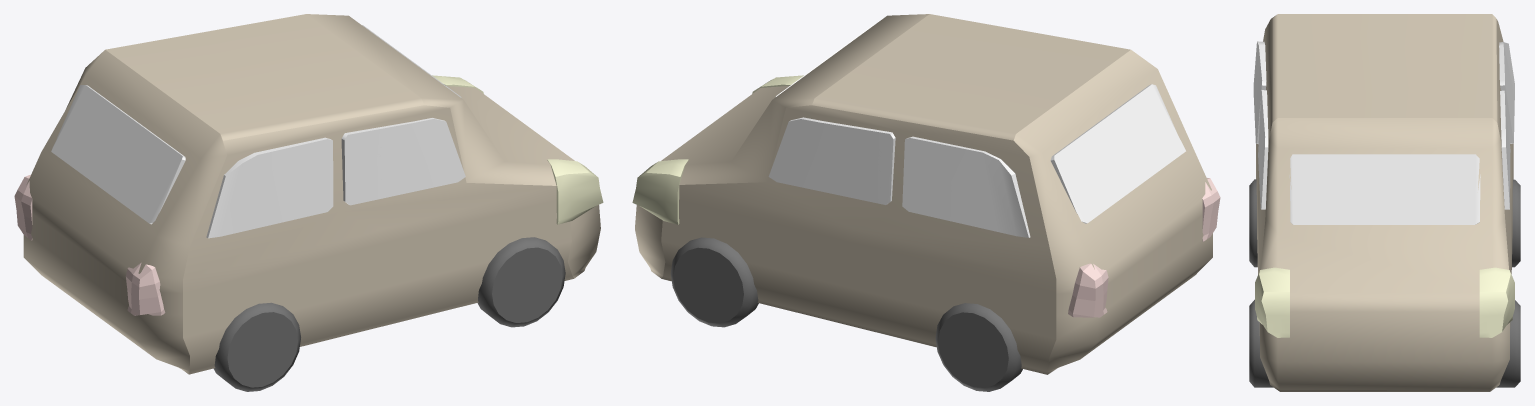
Rendered from CarroVeige.fbx.
3 renders of one model, left to right at view 1: azimuth 30°, elevation 25°; view 2: azimuth 150°, elevation 25°; view 3: azimuth 270°, elevation 25°, orthographic. The views are drawn at different scales.
Parts seen in each view (by area): view 1: pCube1, pCube10, pCube7, pCube8, pCylinder1, pCylinder2, pCube9, pCube11; view 2: pCube1, pCube10, pCube4, pCube3, pCylinder3, pCylinder4, pCube9, pCube11; view 3: pCube1, pCube6, pCube9, pCube4, pCylinder1, pCylinder3, pCube8, pCube3, pCube7, pCylinder4, pCylinder2.
Part boxes in pixels (x1,y1,x2,y2): pCube1: [23, 14, 600, 374]; pCube10: [51, 85, 185, 224]; pCube7: [206, 137, 333, 238]; pCube8: [341, 118, 465, 205]; pCylinder1: [477, 237, 565, 327]; pCylinder2: [213, 302, 300, 391]; pCube9: [432, 75, 603, 224]; pCube11: [14, 175, 165, 315]; pCube1: [635, 14, 1212, 374]; pCube10: [1050, 84, 1185, 223]; pCube4: [902, 136, 1030, 237]; pCube3: [768, 117, 895, 204]; pCylinder3: [670, 237, 758, 327]; pCylinder4: [935, 303, 1022, 391]; pCube9: [632, 75, 803, 224]; pCube11: [1068, 178, 1220, 317]; pCube1: [1256, 14, 1513, 391]; pCube6: [1289, 154, 1480, 224]; pCube9: [1255, 267, 1514, 337]; pCube4: [1499, 42, 1514, 143]; pCylinder1: [1249, 299, 1273, 387]; pCylinder3: [1496, 300, 1520, 387]; pCube8: [1258, 90, 1268, 209]; pCube3: [1500, 90, 1510, 209]; pCube7: [1253, 41, 1266, 143]; pCylinder4: [1512, 179, 1520, 267]; pCylinder2: [1249, 179, 1257, 267].
Size of the model in its own units: 20.49 by 10.7 by 11.09.
